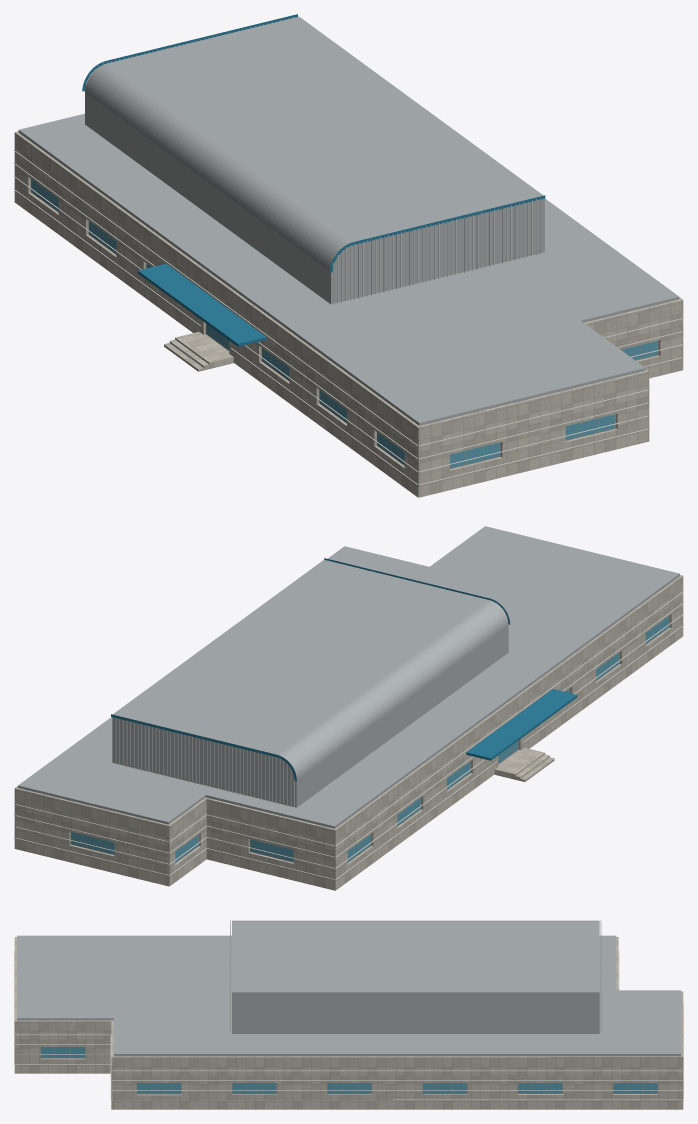
The picture shows the model from 3 angles, top to bottom: view 1: azimuth 30°, elevation 25°; view 2: azimuth 150°, elevation 25°; view 3: azimuth 270°, elevation 25°; orthographic projection. The views are drawn at different scales.
Visible parts, largest first — view 1: b123__roof, unist-batch-b123__stair-main, unist-batch-b123__blue, b123__trim, b123__glass, b123__frame, b123__threshold-main; view 2: b123__roof, unist-batch-b123__stair-main, unist-batch-b123__blue, b123__trim, b123__glass, b123__frame, b123__threshold-main; view 3: b123__roof, unist-batch-b123__stair-main, b123__trim, b123__glass, b123__frame, unist-batch-b123__blue.
Boxes of the visible parts, bbox=[...] form: b123__roof: bbox=[18, 16, 679, 425]; unist-batch-b123__stair-main: bbox=[14, 131, 683, 497]; unist-batch-b123__blue: bbox=[82, 14, 545, 346]; b123__trim: bbox=[14, 150, 683, 485]; b123__glass: bbox=[31, 179, 657, 468]; b123__frame: bbox=[31, 179, 658, 469]; b123__threshold-main: bbox=[181, 332, 233, 367]; b123__roof: bbox=[18, 526, 679, 828]; unist-batch-b123__stair-main: bbox=[14, 575, 683, 890]; unist-batch-b123__blue: bbox=[111, 558, 577, 807]; b123__trim: bbox=[14, 591, 683, 879]; b123__glass: bbox=[71, 616, 668, 862]; b123__frame: bbox=[70, 616, 669, 862]; b123__threshold-main: bbox=[494, 747, 539, 778]; b123__roof: bbox=[17, 920, 680, 1056]; unist-batch-b123__stair-main: bbox=[14, 937, 683, 1109]; b123__trim: bbox=[14, 950, 683, 1100]; b123__glass: bbox=[41, 1047, 657, 1093]; b123__frame: bbox=[40, 1047, 657, 1094]; unist-batch-b123__blue: bbox=[230, 920, 601, 1032].
Size of the model in its own units: 29.43 by 10.05 by 62.41.
7 materials, 2 textured.
